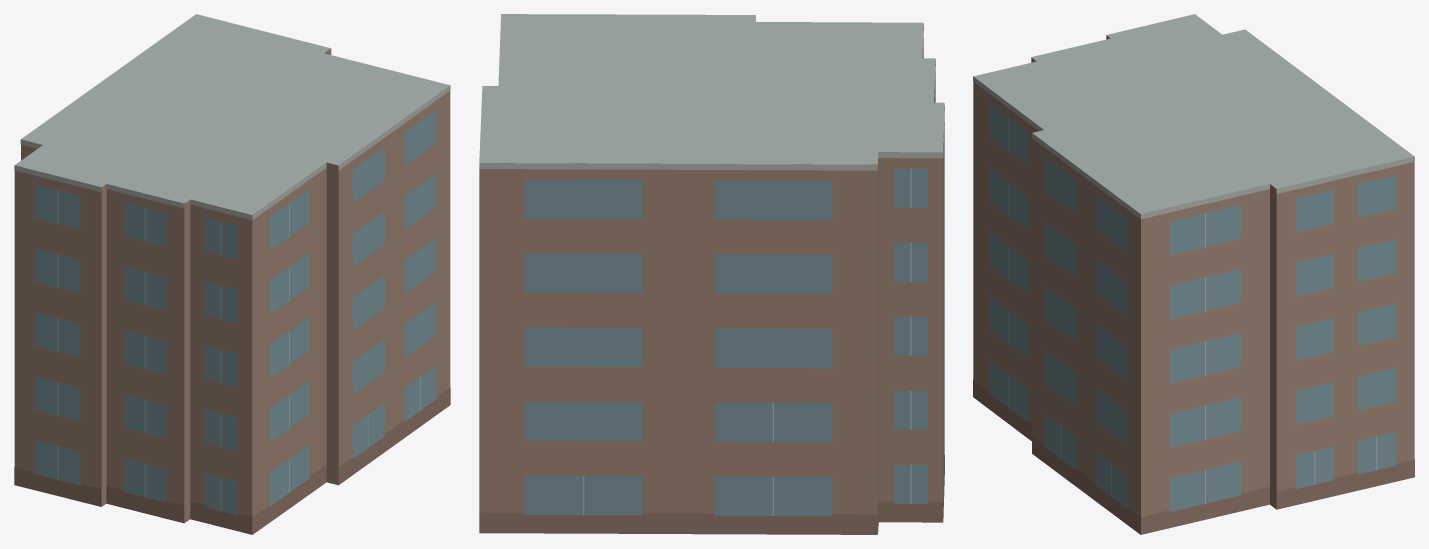
The model's file is survey-upis-33032978.glb.
3 renders of one model, left to right at view 1: azimuth 30°, elevation 25°; view 2: azimuth 150°, elevation 25°; view 3: azimuth 270°, elevation 25°, orthographic. The views are drawn at different scales.
Parts seen in each view (by area): view 1: survey-upis-33032978.tmp; view 2: survey-upis-33032978.tmp; view 3: survey-upis-33032978.tmp.
Part boxes in pixels (x1,y1,x2,y2): survey-upis-33032978.tmp: (14, 14, 450, 534); survey-upis-33032978.tmp: (479, 14, 944, 534); survey-upis-33032978.tmp: (973, 14, 1414, 534).
Bounding box in the file's own units: 20.22 × 15.1 × 18.85.
